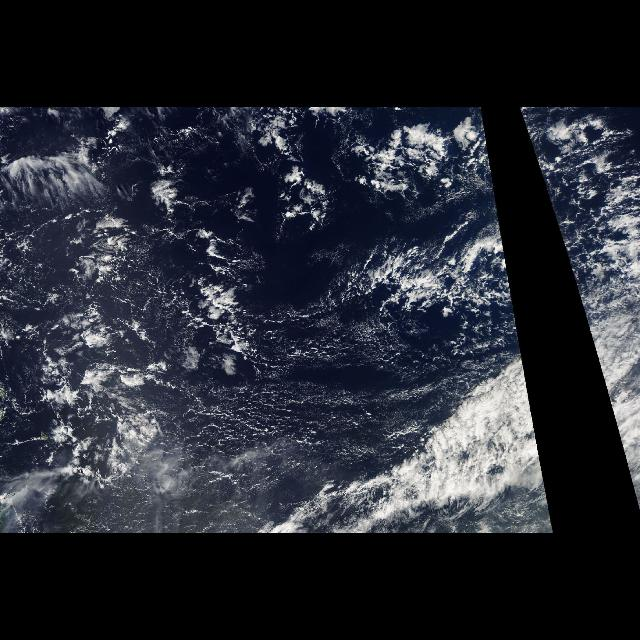Gravel: (18, 230, 170, 490), (352, 115, 514, 329)
Sugar: (159, 311, 457, 497)
